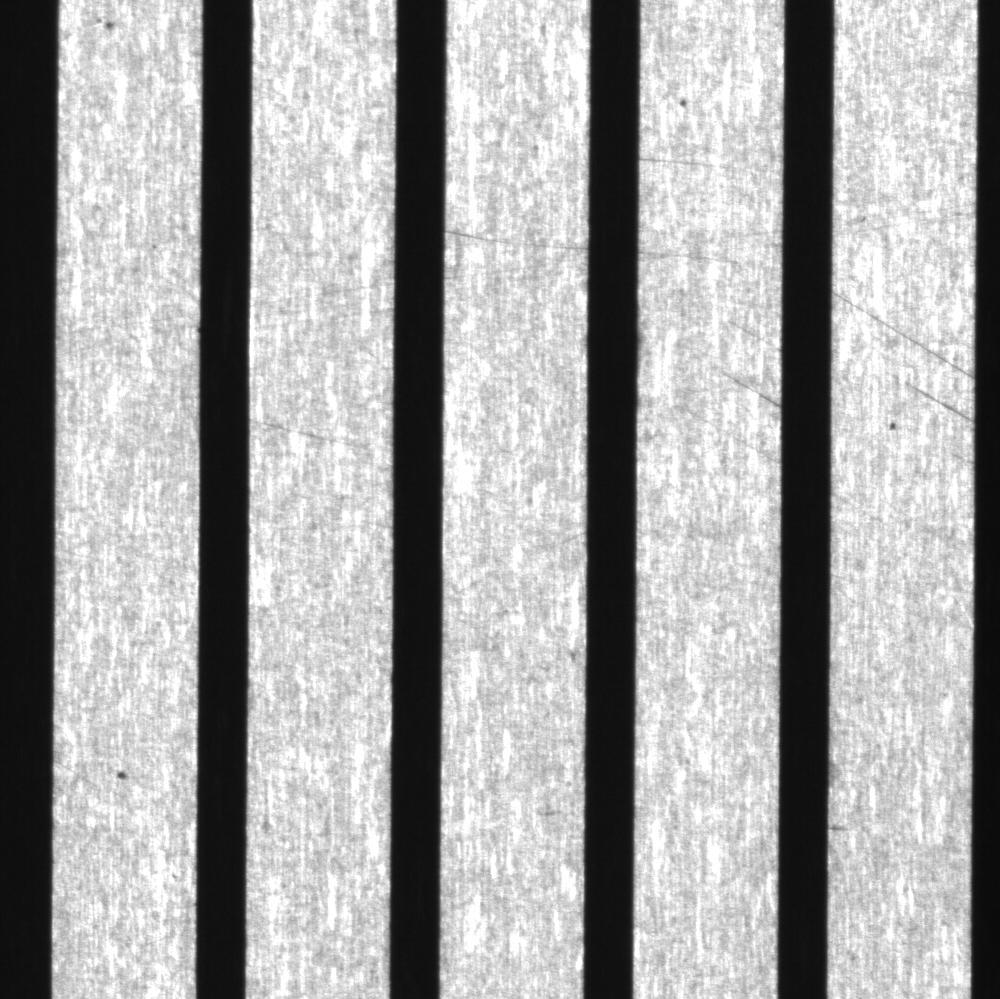Pinhole: (674, 85, 706, 119), (106, 758, 136, 792), (876, 413, 910, 438), (96, 12, 126, 36)
Scar: (829, 285, 974, 381), (277, 272, 396, 330), (251, 412, 377, 456), (442, 225, 588, 256), (710, 356, 783, 414), (700, 416, 781, 468), (639, 239, 758, 273), (637, 151, 745, 178), (717, 305, 778, 344)
